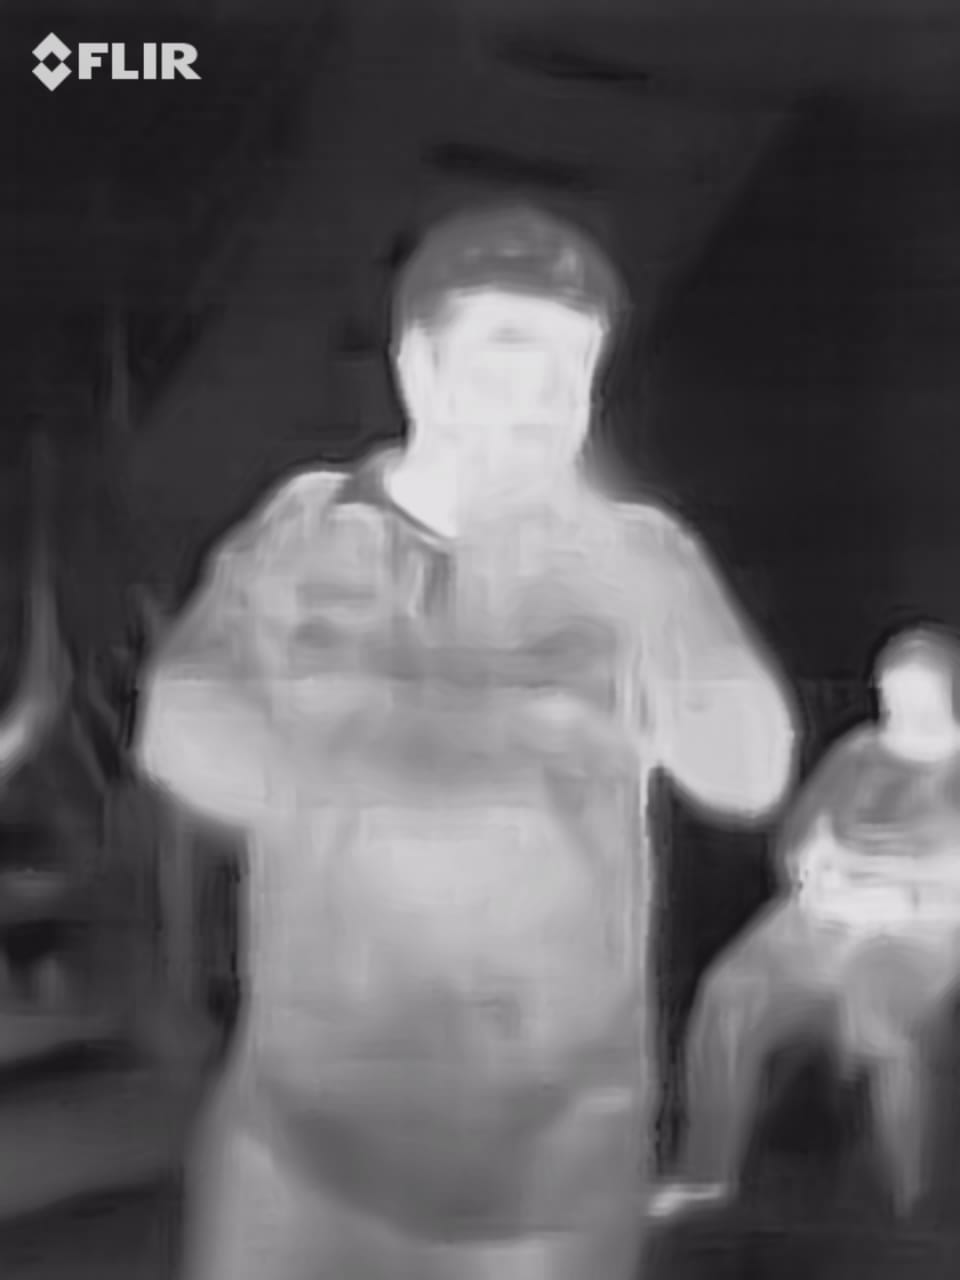head: (383, 194, 624, 521)
